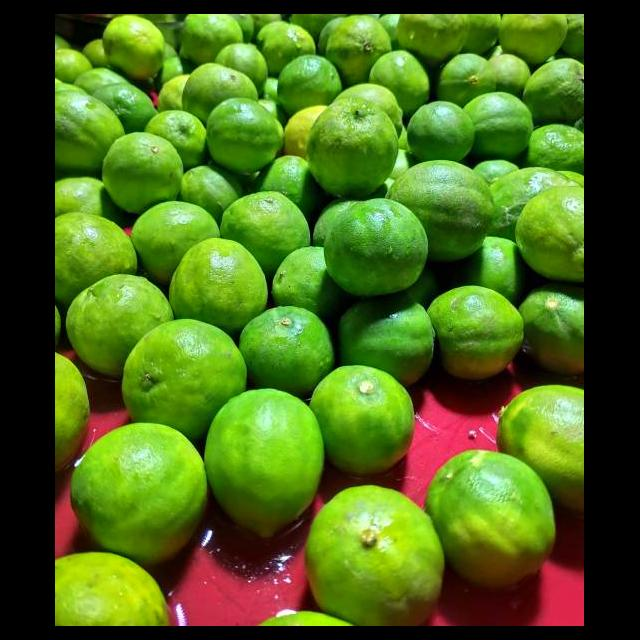lime: (202, 389, 326, 542), (424, 450, 558, 590)
